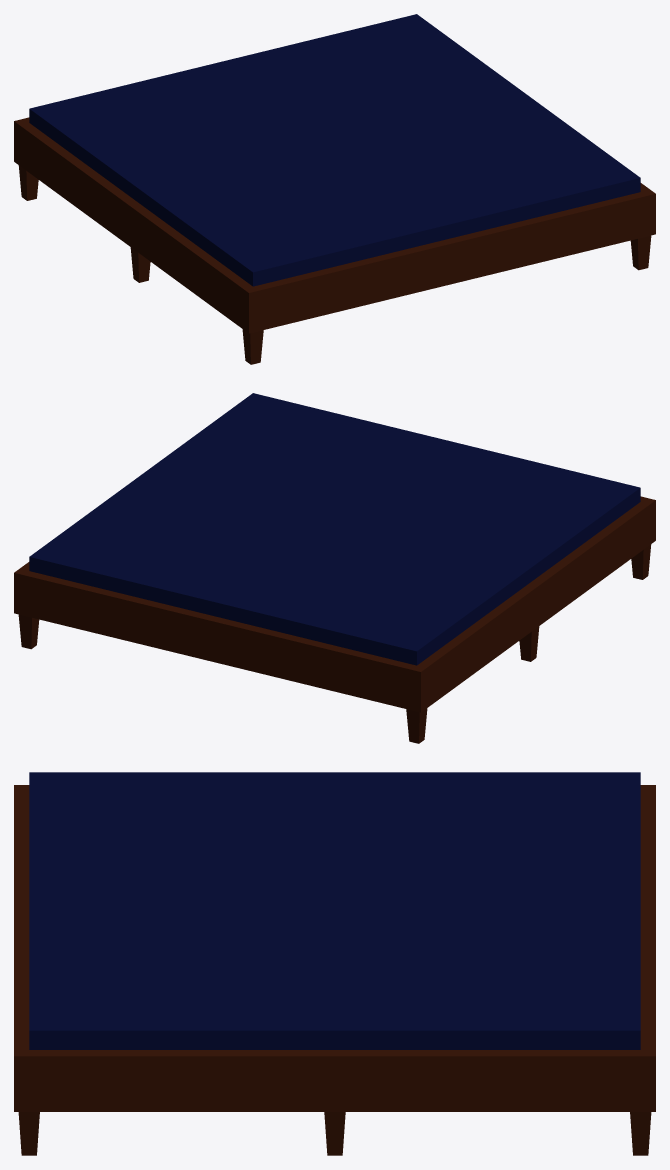
Rendered from KingSizeBed.fbx.
The picture shows the model from 3 angles, top to bottom: view 1: azimuth 30°, elevation 25°; view 2: azimuth 150°, elevation 25°; view 3: azimuth 270°, elevation 25°; orthographic projection. The views are drawn at different scales.
Visible parts, largest first — view 1: Bed; view 2: Bed; view 3: Bed.
Part boxes in pixels (<box>): Bed: <box>14,14,655,364</box>; Bed: <box>14,393,655,743</box>; Bed: <box>14,772,655,1155</box>.
Size of the model in its own units: 346 by 72.6 by 346.
